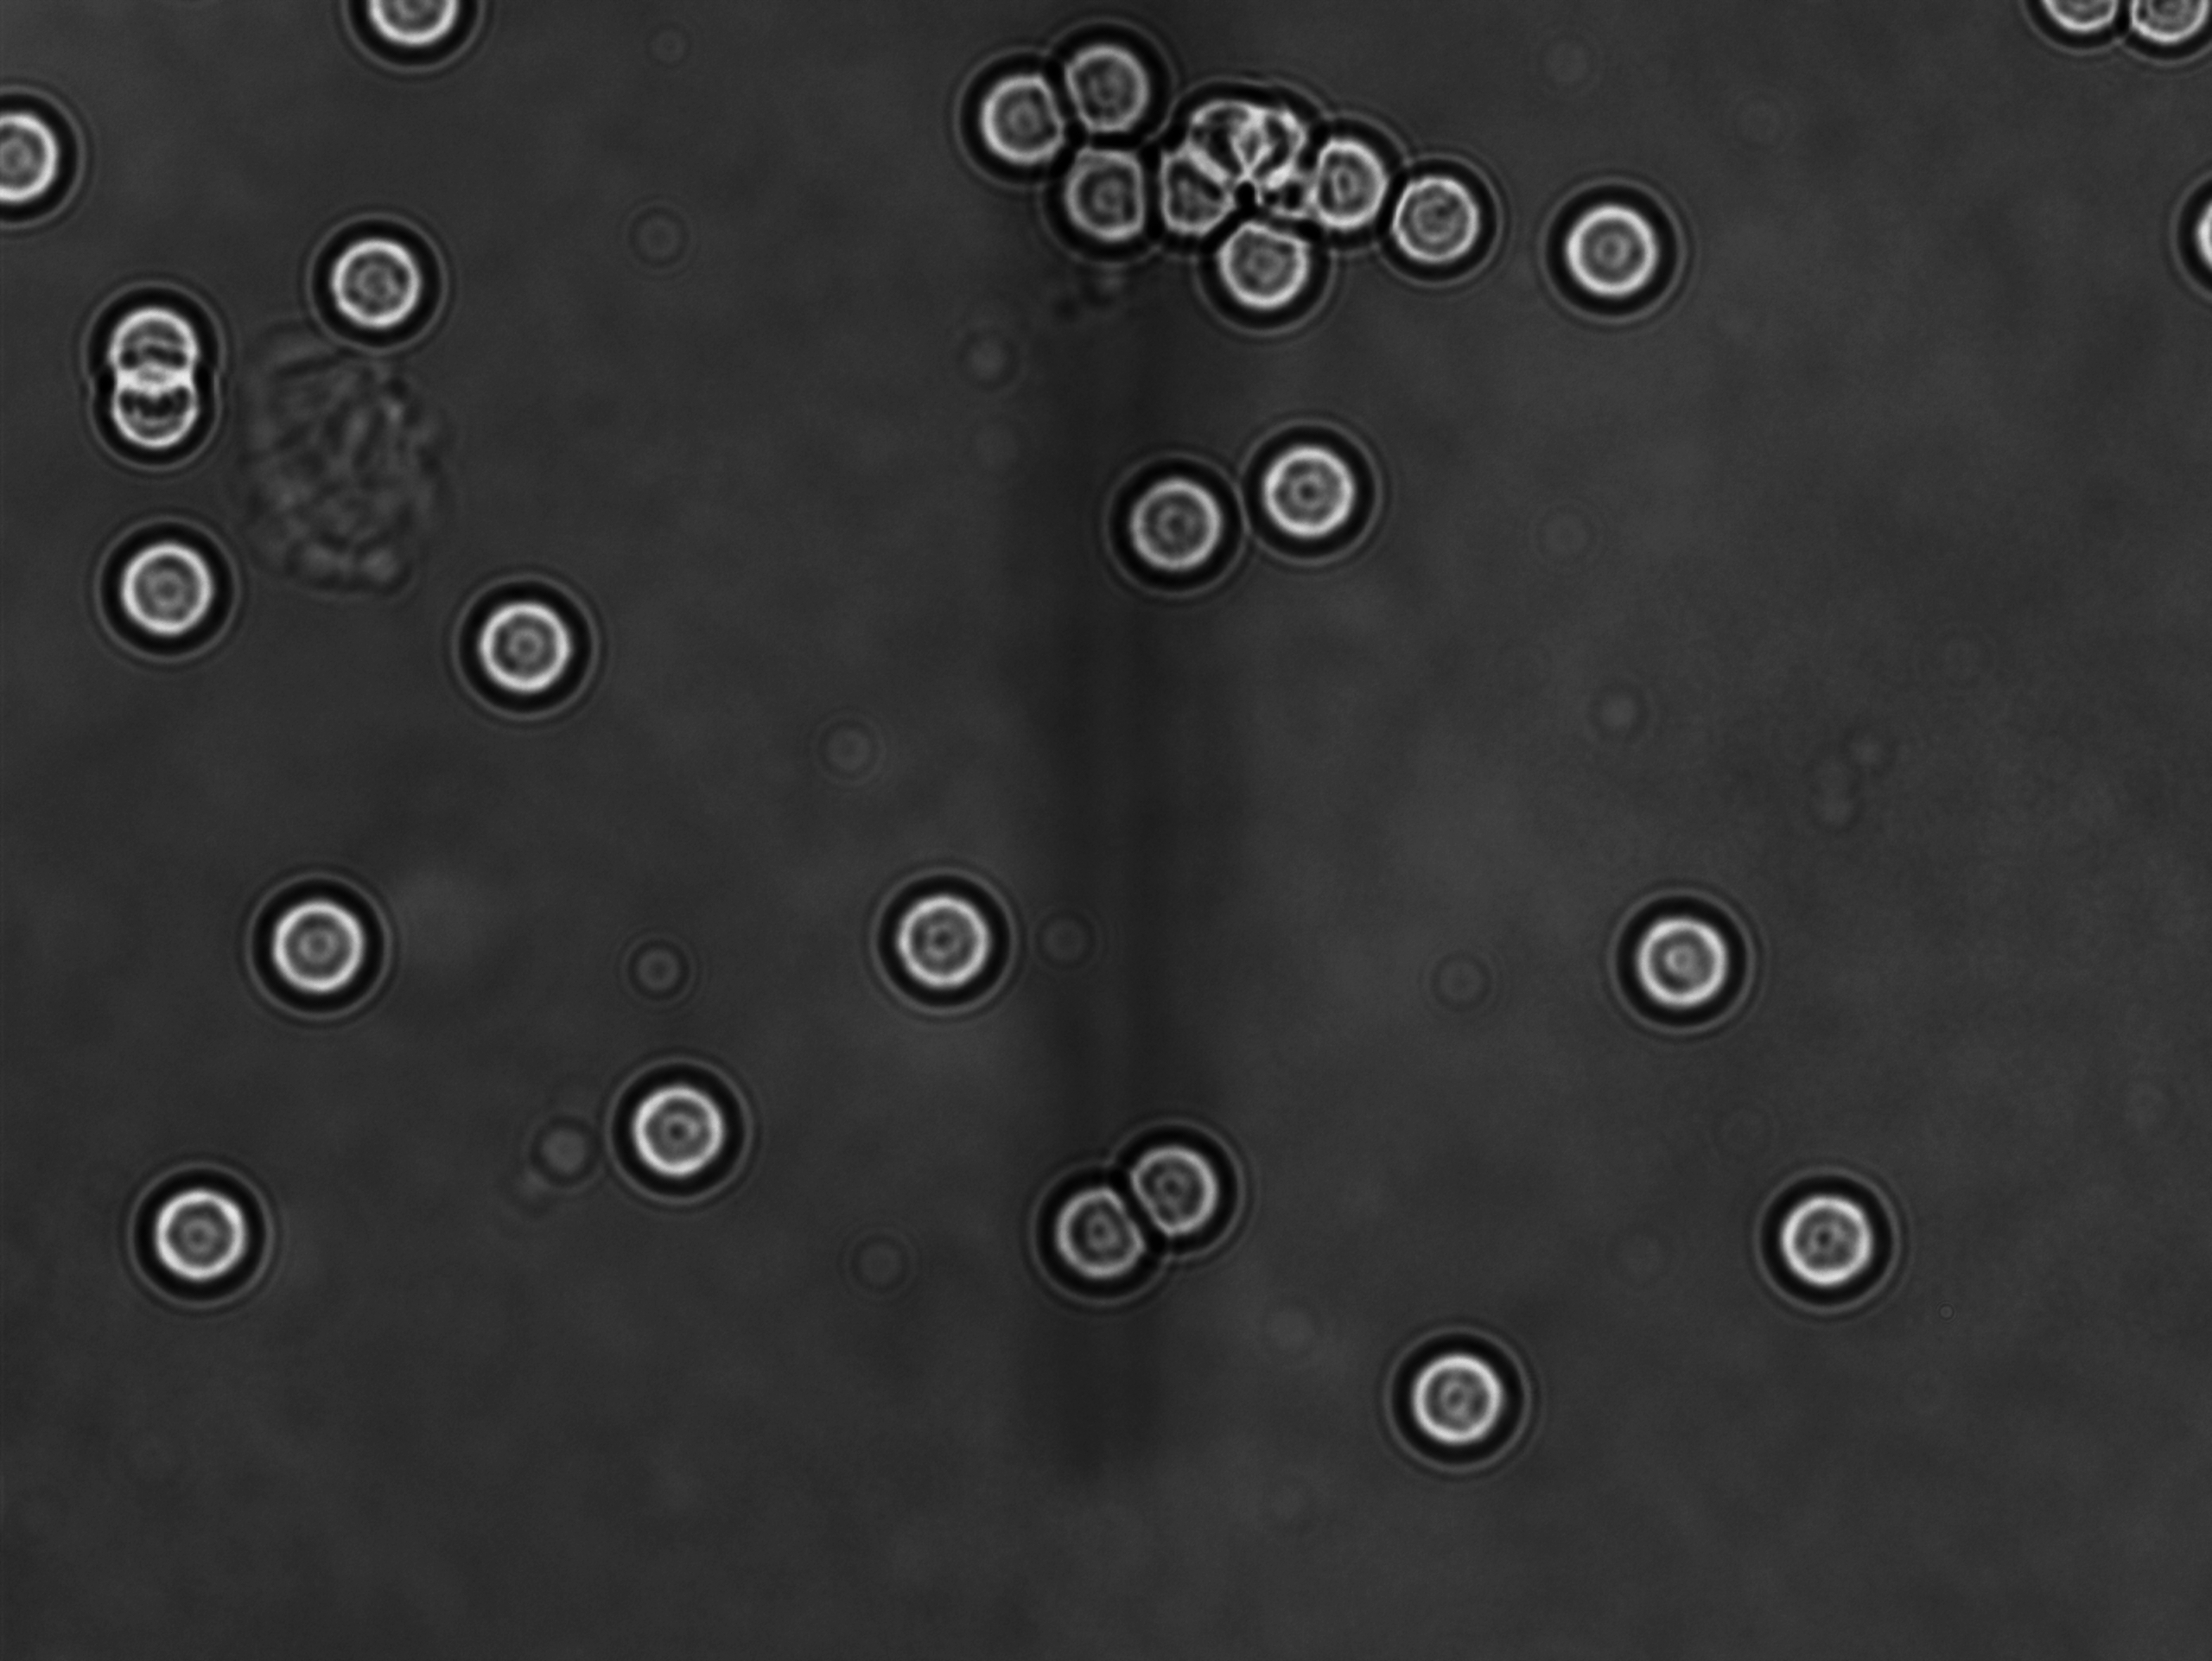depth:20: (1364, 1314, 1547, 1490), (1085, 438, 1261, 619), (1010, 1153, 1186, 1328), (1354, 143, 1526, 318), (218, 851, 394, 1022), (1230, 400, 1397, 579), (1532, 164, 1701, 338), (1738, 1153, 1914, 1319), (860, 841, 1027, 1014), (1101, 1111, 1277, 1270), (1594, 871, 1757, 1033), (87, 344, 263, 492), (84, 513, 249, 668), (79, 263, 249, 414), (598, 1043, 769, 1190), (937, 38, 1097, 194), (452, 571, 614, 724), (1191, 197, 1354, 349), (122, 1160, 277, 1317), (304, 211, 459, 366), (1038, 5, 1186, 159), (1024, 113, 1176, 256)
